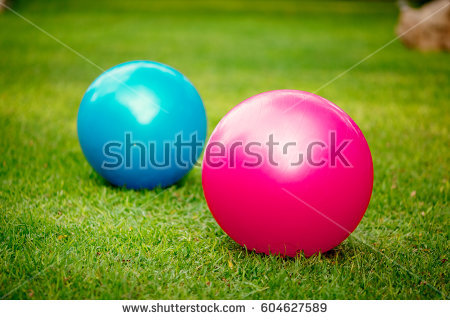yogaball: (204, 89, 380, 258), (76, 58, 204, 187)
